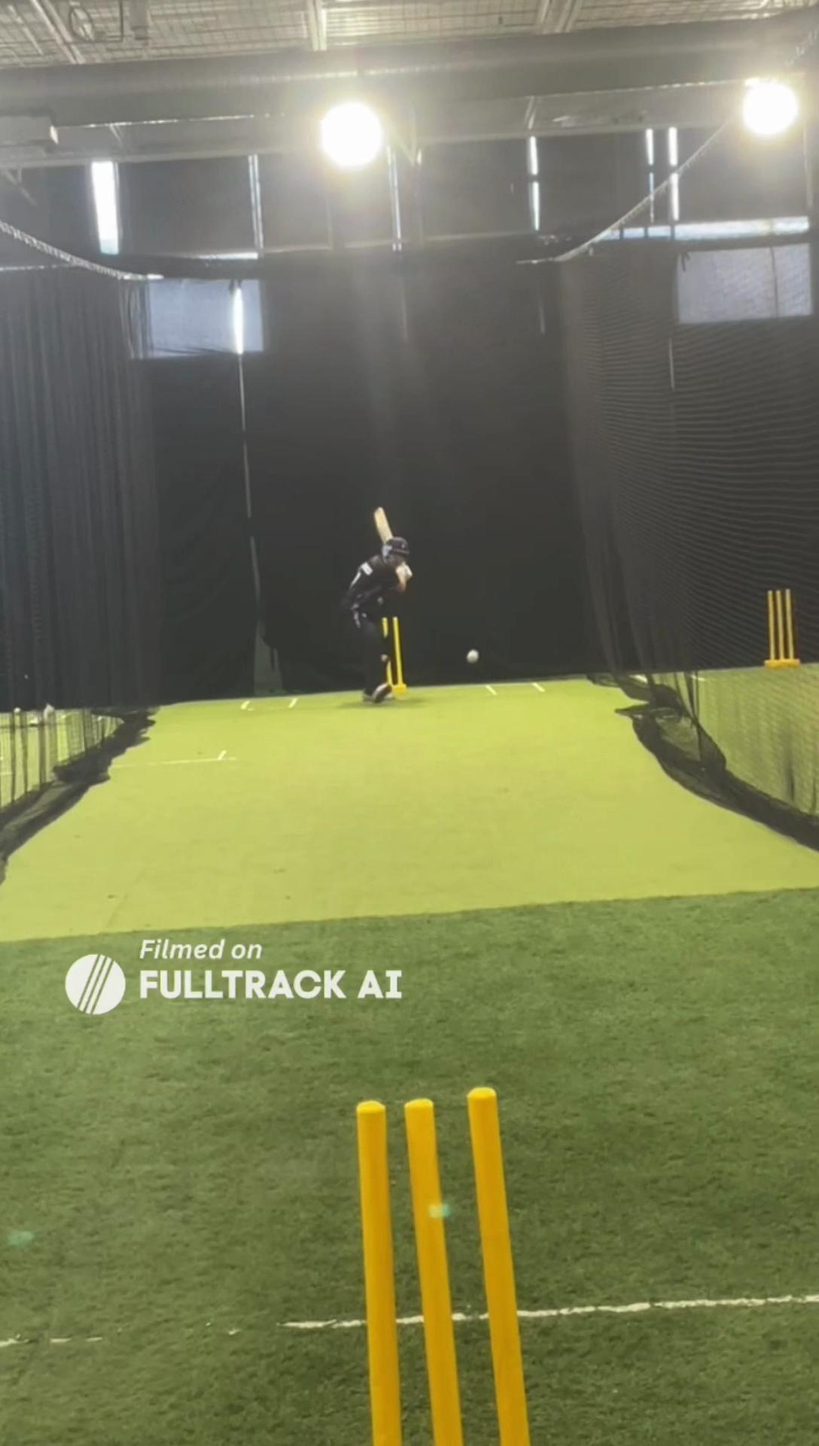ball: (465, 647, 481, 667)
